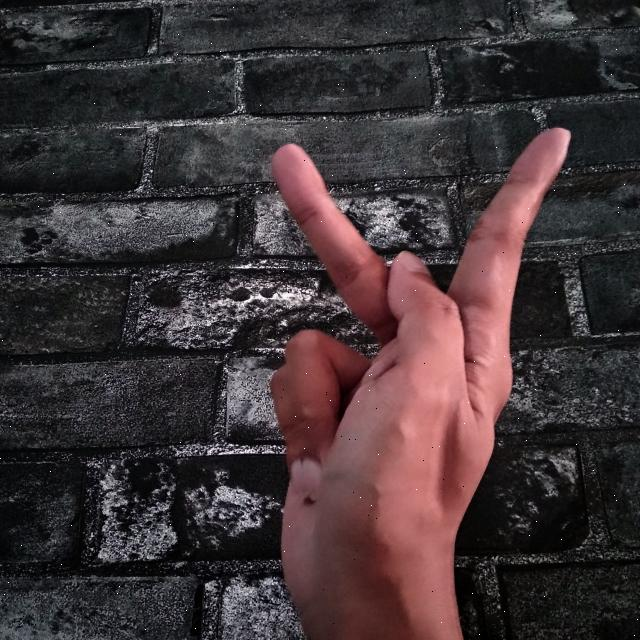K: (261, 125, 576, 640)
